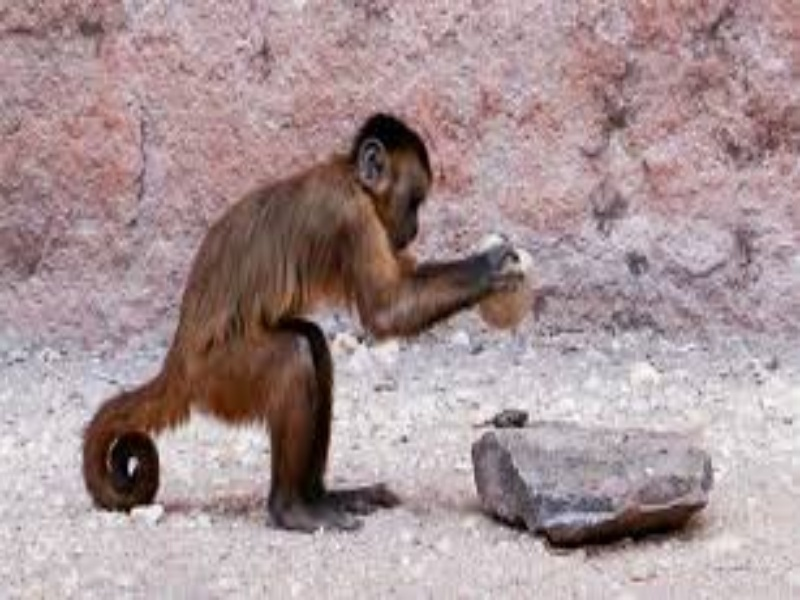monkey: (76, 101, 507, 537)
